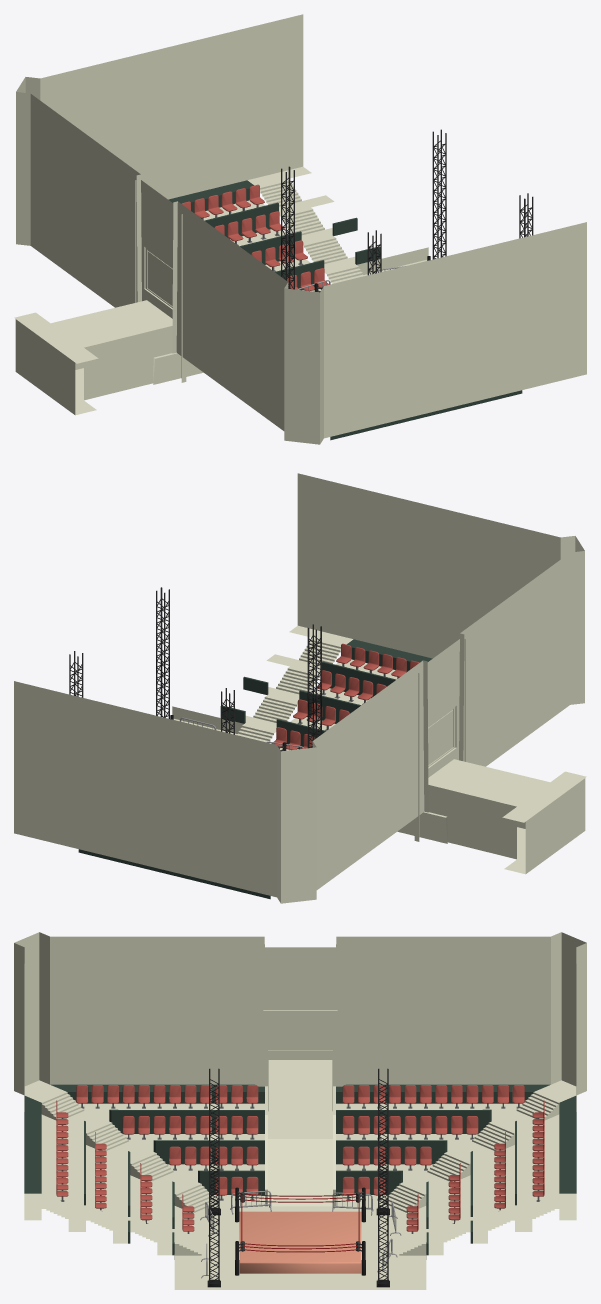
File: Game_map_1_Ring.fbx
The picture shows the model from 3 angles, top to bottom: view 1: azimuth 30°, elevation 25°; view 2: azimuth 150°, elevation 25°; view 3: azimuth 270°, elevation 25°; orthographic projection. The views are drawn at different scales.
Visible parts, largest first — view 1: Plane.009, Plane.008, Cube.027, Cube.025, Cube.014, Cube.013, Cube.012; view 2: Plane.009, Plane.008, Cube.026, Cube.019, Cube.014, Cube.013, Cube.012; view 3: Plane.009, Plane.008, Cube, Cube.017, Cube.016, Cube.015, Cube.014, Cube.013, Cube.011, Cube.012, Cube.027, Cube.026 (+4 smaller).
Part boxes in pixels (<box>): Plane.009: <box>16,14,586,444</box>; Plane.008: <box>14,180,186,415</box>; Cube.027: <box>432,129,446,259</box>; Cube.025: <box>281,166,294,289</box>; Cube.014: <box>181,184,264,219</box>; Cube.013: <box>214,211,284,245</box>; Cube.012: <box>251,240,307,271</box>; Plane.009: <box>14,473,584,903</box>; Plane.008: <box>414,639,586,874</box>; Cube.026: <box>156,587,169,718</box>; Cube.019: <box>307,624,321,748</box>; Cube.014: <box>336,643,419,678</box>; Cube.013: <box>317,670,386,704</box>; Cube.012: <box>293,699,349,730</box>; Plane.009: <box>14,932,586,1289</box>; Plane.008: <box>255,947,345,1111</box>; Cube: <box>239,1211,361,1273</box>; Cube.017: <box>76,1085,524,1108</box>; Cube.016: <box>122,1116,478,1139</box>; Cube.015: <box>169,1146,431,1170</box>; Cube.014: <box>56,1100,544,1201</box>; Cube.013: <box>95,1132,505,1211</box>; Cube.011: <box>215,1176,385,1200</box>; Cube.012: <box>140,1163,460,1223</box>; Cube.027: <box>376,1140,389,1287</box>; Cube.026: <box>207,1140,220,1287</box>.
Size of the model in its own units: 4142 by 1780 by 4719.
